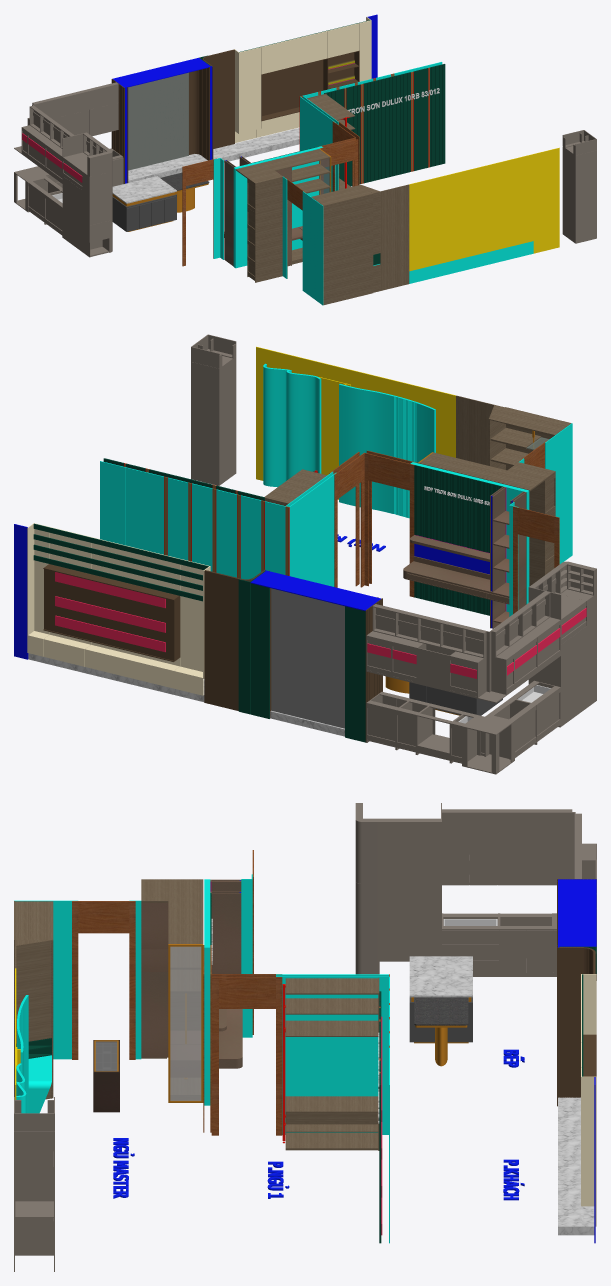
Rendered from HOALAN_HL2BR.glb.
The picture shows the model from 3 angles, top to bottom: view 1: azimuth 30°, elevation 25°; view 2: azimuth 150°, elevation 25°; view 3: azimuth 270°, elevation 25°; orthographic projection. The views are drawn at different scales.
Parts seen in each view (by area): view 1: G-HL2BR_Gương soi bếp vách 02, G-HL2BR_Bếp.Vách 02, G-Object.127, G-Object.126, G-Object.129, G-Object.132, G-HL2BR_Hậu 1_KHÁCH.Tivi, G-Object.029, G-HL2BR_NGUMS.Ốp vách 01, G-Object.018, G-HL2BR_Hậu 01_NGUMS.T6, G-HL2BR_KHÁCH.Vách 02 (+42 smaller); view 2: G-HL2BR_Bếp.Vách 02, G-Object.007, G-Object.006, G-HL2BR_Hậu 01_Bếp.Vách 06, G-Object.019, G-Object.105, G-HL2BR_Hậu 1_KHÁCH.Tivi, G-Object.002, G-HL2BR_Hậu 02_Bếp.Vách 01, G-Object.018, G-HL2BR_Hậu 02_Bếp.Vách 04, _G-HL2BR_Nóc hoàn thiện_NGUMS.T7T9 (Loose Mesh) (+67 smaller); view 3: G-Object.030, G-Object.165, G-HL2BR_Hậu hoàn thiện_BẾP.T5T6T14, G-HL2BR_Mặt đẹp_BẾP.F5.001, G-Object.009, G-HL2BR_Hông trái_NGUMS.T3, G-Object.018, _G-HL2BR_Nóc hoàn thiện_NGUMS.T7T9 (Loose Mesh), _G-HL2BR_Cánh trái_NGUMS.T8 (Loose Mesh), G-Object.109, G-Object.172, G-HL2BR_Bếp.Vách 03 (+53 smaller).
Boxes of the visible parts, x1,y1,x2,y2 form: G-HL2BR_Gương soi bếp vách 02: (128,72,188,170); G-HL2BR_Bếp.Vách 02: (128,73,188,169); G-Object.127: (450,164,492,260); G-Object.126: (409,174,450,271); G-Object.129: (492,154,533,250); G-Object.132: (533,147,559,240); G-HL2BR_Hậu 1_KHÁCH.Tivi: (262,60,323,115); G-Object.029: (233,146,322,268); G-HL2BR_NGUMS.Ốp vách 01: (380,184,409,264); G-Object.018: (302,191,323,305); G-HL2BR_Hậu 01_NGUMS.T6: (346,193,373,272); G-HL2BR_KHÁCH.Vách 02: (238,47,261,133); G-HL2BR_Bếp.Vách 02: (271,588,344,728); G-Object.007: (339,384,435,518); G-Object.006: (263,363,321,487); G-HL2BR_Hậu 01_Bếp.Vách 06: (204,570,238,710); G-Object.019: (289,472,336,586); G-Object.105: (191,362,219,485); G-HL2BR_Hậu 1_KHÁCH.Tivi: (86,589,174,660); G-Object.002: (125,467,163,554); G-HL2BR_Hậu 02_Bếp.Vách 01: (345,606,364,742); G-Object.018: (545,423,572,563); G-HL2BR_Hậu 02_Bếp.Vách 04: (251,583,269,718); _G-HL2BR_Nóc hoàn thiện_NGUMS.T7T9 (Loose Mesh): (419,452,555,491); G-Object.030: (276,976,388,1134); G-Object.165: (170,946,201,1100); G-HL2BR_Hậu hoàn thiện_BẾP.T5T6T14: (379,884,440,961); G-HL2BR_Mặt đẹp_BẾP.F5.001: (442,812,575,842); G-Object.009: (558,1097,594,1235); G-HL2BR_Hông trái_NGUMS.T3: (16,940,52,1043); G-Object.018: (14,900,77,1059); _G-HL2BR_Nóc hoàn thiện_NGUMS.T7T9 (Loose Mesh): (141,879,203,943); _G-HL2BR_Cánh trái_NGUMS.T8 (Loose Mesh): (141,949,166,1057); G-Object.109: (15,1132,53,1255); G-Object.172: (409,956,472,997); G-HL2BR_Bếp.Vách 03: (558,879,596,946).
Bounding box in the file's own units: 11.58 × 2.8 × 9.19.
Materials: 32 (11 with a texture image).
